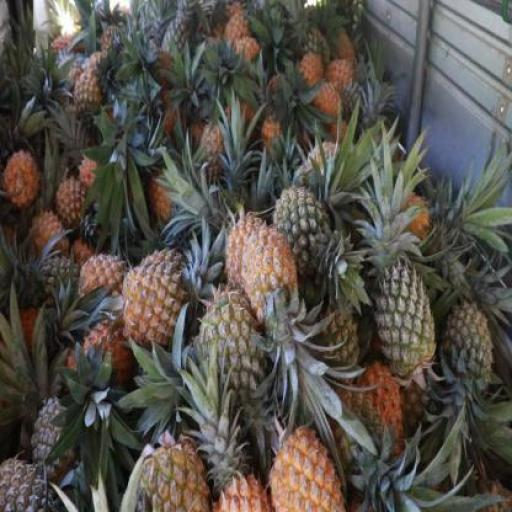------------------------------: (194, 290, 266, 399), (268, 188, 332, 287), (137, 443, 209, 512), (72, 67, 104, 126)
Pineapple - v8 v1: (120, 245, 190, 346), (267, 428, 345, 511), (239, 226, 300, 328), (224, 215, 273, 304), (77, 249, 124, 310), (56, 178, 94, 232), (5, 151, 38, 210)
